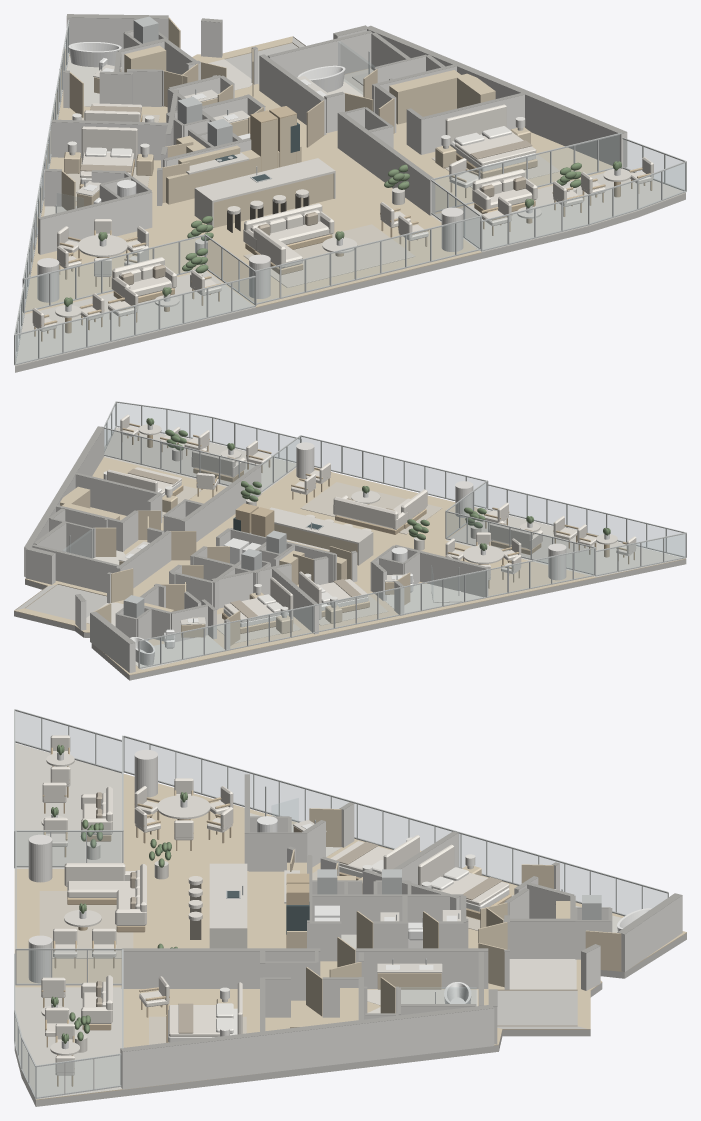
The picture shows the model from 3 angles, top to bottom: view 1: azimuth 30°, elevation 25°; view 2: azimuth 150°, elevation 25°; view 3: azimuth 270°, elevation 25°; orthographic projection. The views are drawn at different scales.
Size of the model in its own units: 24.35 by 2.28 by 19.39.
